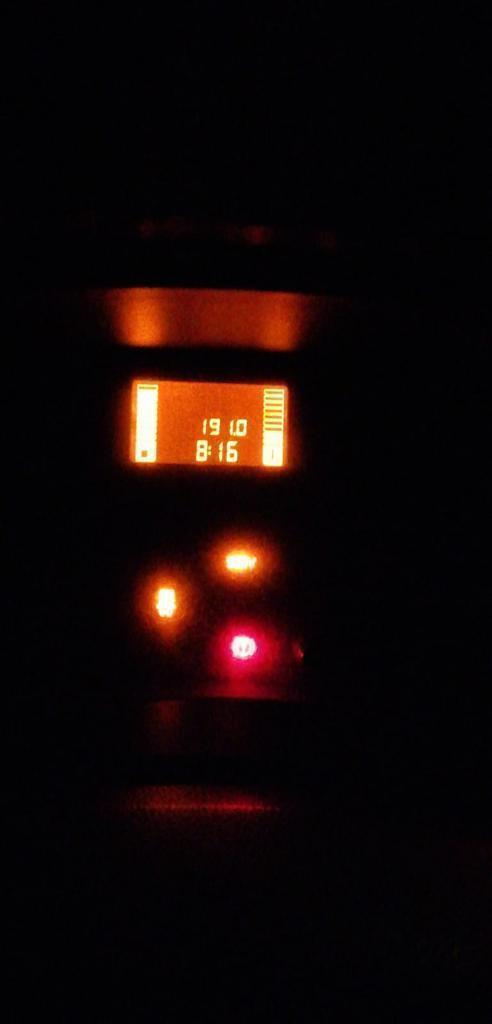,: (233, 430, 236, 437)
0: (236, 417, 247, 436)
1: (218, 439, 224, 464), (201, 417, 206, 435), (229, 418, 233, 436)
6: (226, 439, 239, 463)
8: (195, 438, 207, 462)
9: (208, 417, 220, 435)
X: (207, 444, 212, 456)
odometer: (121, 374, 294, 471)
